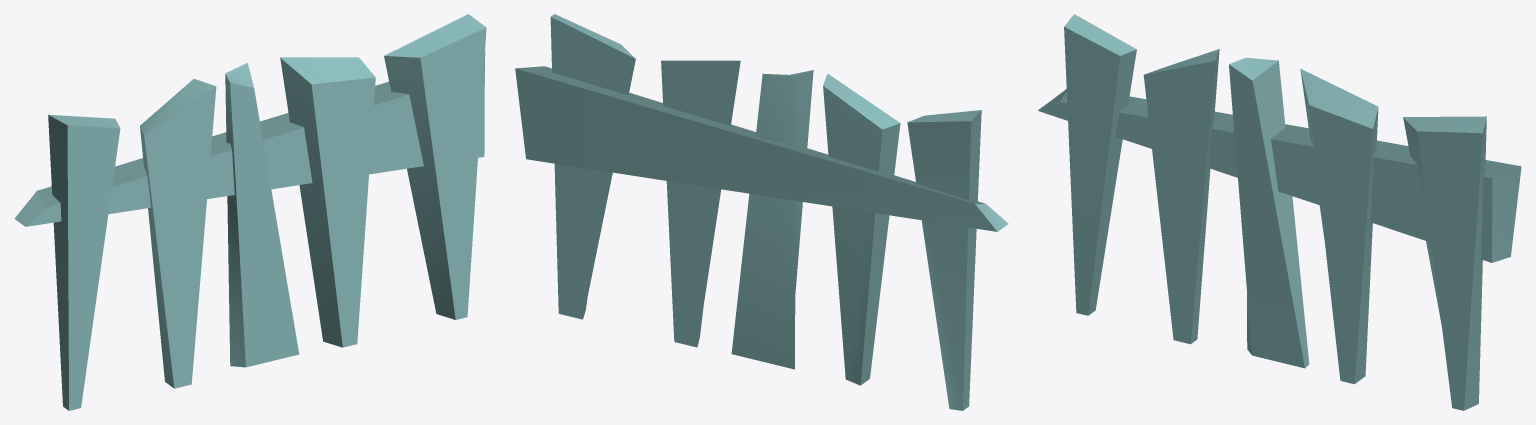
The model's file is c_fence_planks_white_ab.fbx.
3 views of the same model, side by side, from view 1: azimuth 30°, elevation 25°; view 2: azimuth 150°, elevation 25°; view 3: azimuth 330°, elevation 25° (orthographic).
Parts seen in each view (by area): view 1: c_fence_planks_white_ab; view 2: c_fence_planks_white_ab; view 3: c_fence_planks_white_ab.
Part boxes in pixels (left/top/right/bottom): c_fence_planks_white_ab: left=14, top=14, right=486, bottom=410; c_fence_planks_white_ab: left=515, top=14, right=1008, bottom=410; c_fence_planks_white_ab: left=1038, top=14, right=1521, bottom=410.
Bounding box in the file's own units: 2.13 × 1.26 × 0.1723.
